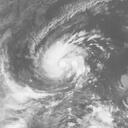cyclone: (37, 41, 89, 84)
